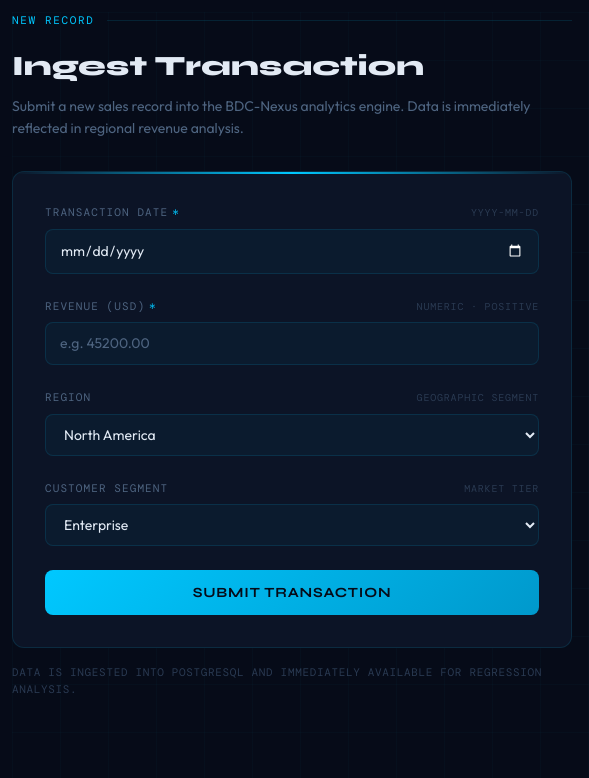
Test: TransactionForm Component › shows validation error when submitting without required fields
Find and click the submit button without filling in any fields
Step 1. Click the button "SUBMIT TRANSACTION" → (292, 593), box [45, 570, 539, 615]
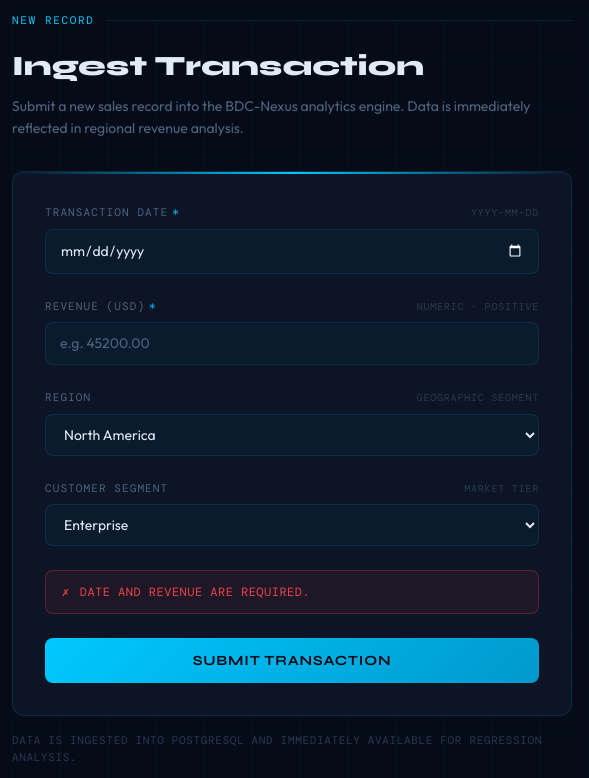
Expected: the text "✗ DATE AND REVENUE ARE REQUIRED." is shown, [45, 570, 539, 614]
